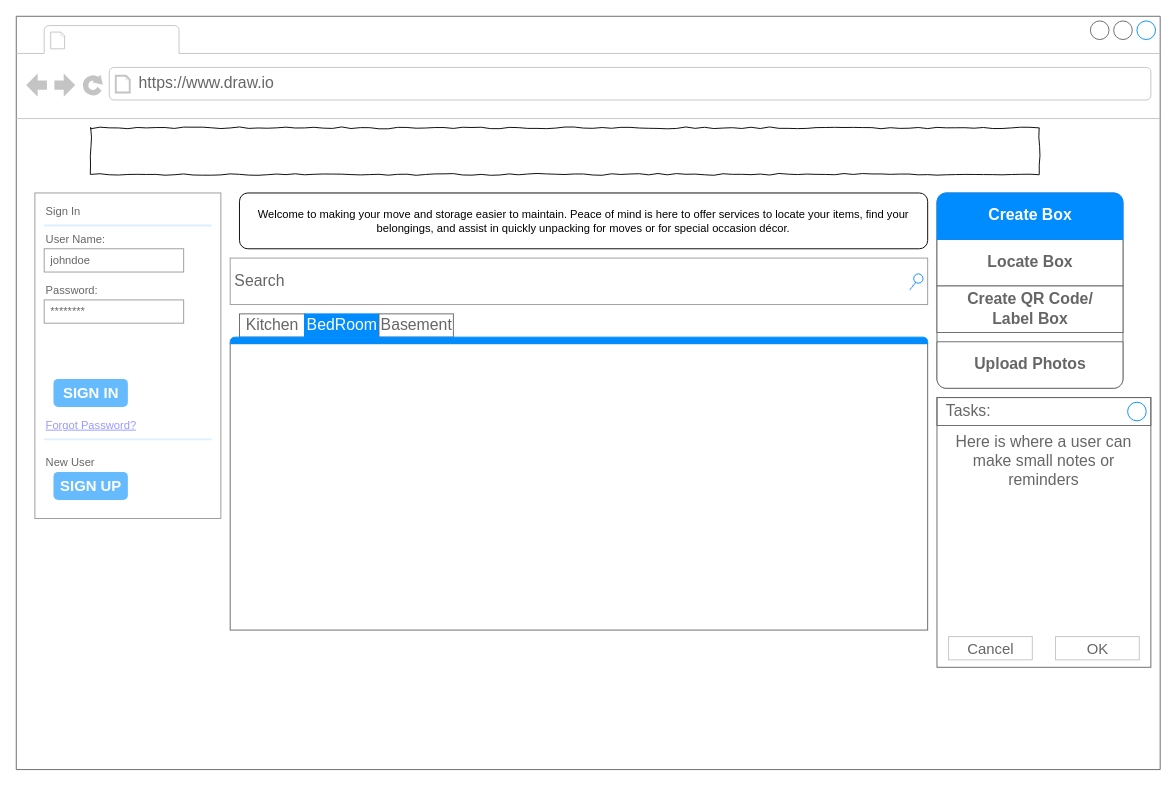
Image size: 1176x786. Some labels were removed from this diagram. The shapes that lost their labels are listed below. From the top down, each one's centre as x and y in pixels, then its label:
(x=122, y=39): Page 1
(x=564, y=150): POM/Box Project
